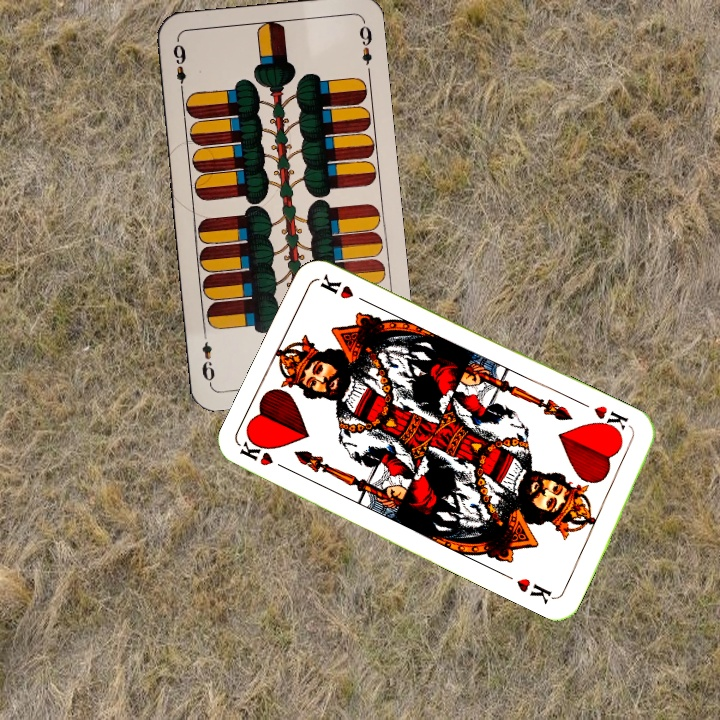E9: (169, 40, 189, 96)
HK: (236, 435, 294, 475), (589, 401, 631, 438)
